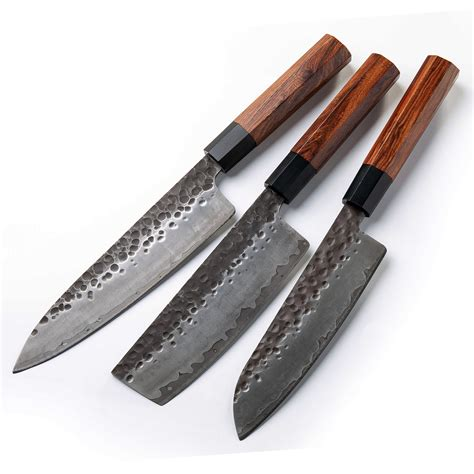knife: (12, 32, 350, 371), (108, 49, 402, 407), (230, 55, 460, 439)
